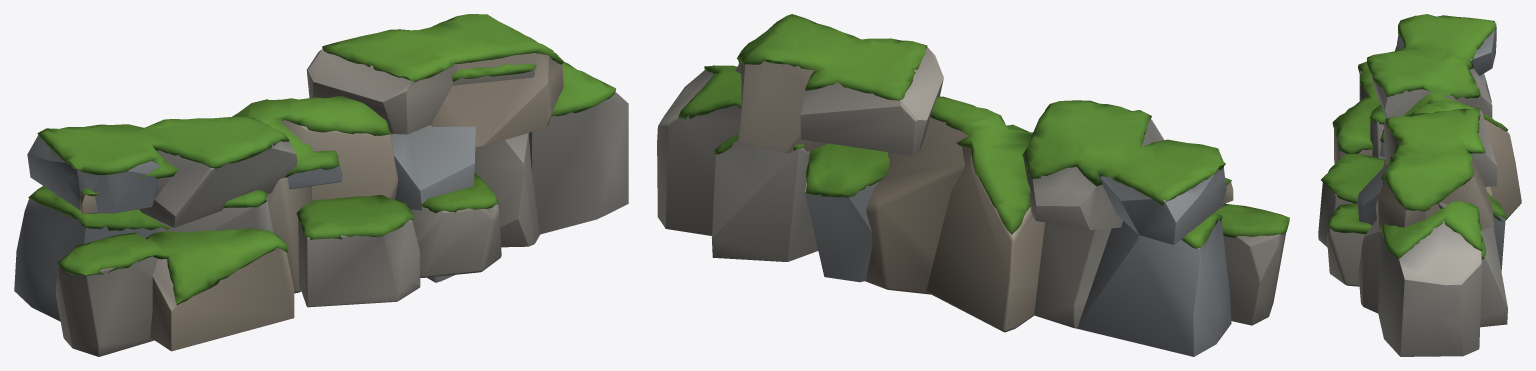
File: glade_bluff_low.glb
3 renders of one model, left to right at view 1: azimuth 30°, elevation 25°; view 2: azimuth 150°, elevation 25°; view 3: azimuth 270°, elevation 25°, orthographic. The views are drawn at different scales.
Parts seen in each view (by area): view 1: glade_bluff_low, moss; view 2: glade_bluff_low, moss; view 3: glade_bluff_low, moss.
Part boxes in pixels (x1=…): glade_bluff_low: x1=14, y1=49, x2=628, y2=356; moss: x1=28, y1=14, x2=615, y2=305; glade_bluff_low: x1=657, y1=47, x2=1286, y2=356; moss: x1=678, y1=14, x2=1289, y2=248; glade_bluff_low: x1=1318, y1=23, x2=1521, y2=356; moss: x1=1321, y1=14, x2=1507, y2=259.
Bounding box in the file's own units: 43.11 × 13.64 × 16.25.
